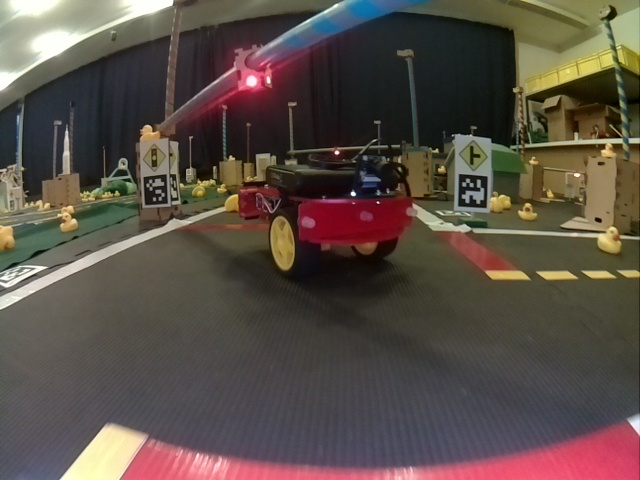Duckie: (598, 228, 621, 252), (518, 204, 537, 220), (59, 214, 76, 231), (224, 194, 239, 212), (139, 127, 157, 140), (192, 187, 201, 197)
Duckiebot: (240, 161, 409, 267)
Intersection sign: (458, 139, 487, 172)
QR code: (1, 265, 46, 287), (456, 179, 488, 208), (145, 175, 169, 207), (169, 174, 180, 202)
Signal sign: (142, 146, 167, 170)
Traffic light: (235, 45, 270, 92)
